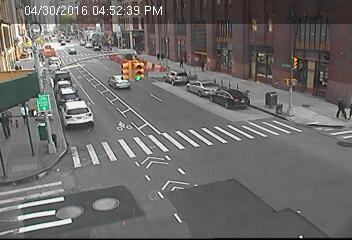neg: (30, 119, 67, 169), (148, 132, 181, 176), (206, 150, 235, 188), (201, 72, 229, 110), (282, 129, 309, 166), (92, 113, 118, 148), (87, 183, 112, 217), (42, 41, 63, 69), (113, 60, 133, 88), (260, 90, 280, 117)
pos: (332, 95, 350, 119)
